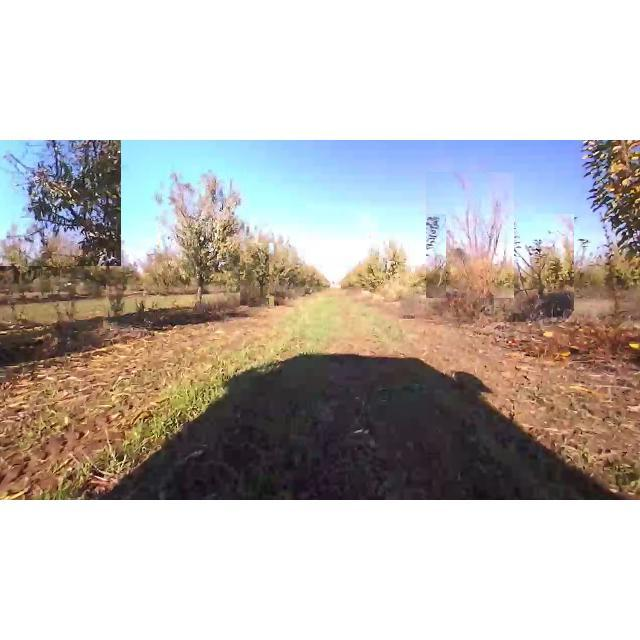direk: (0, 140, 121, 266), (159, 168, 245, 320), (426, 172, 514, 298), (494, 214, 574, 322), (240, 243, 274, 307), (374, 238, 410, 294)
